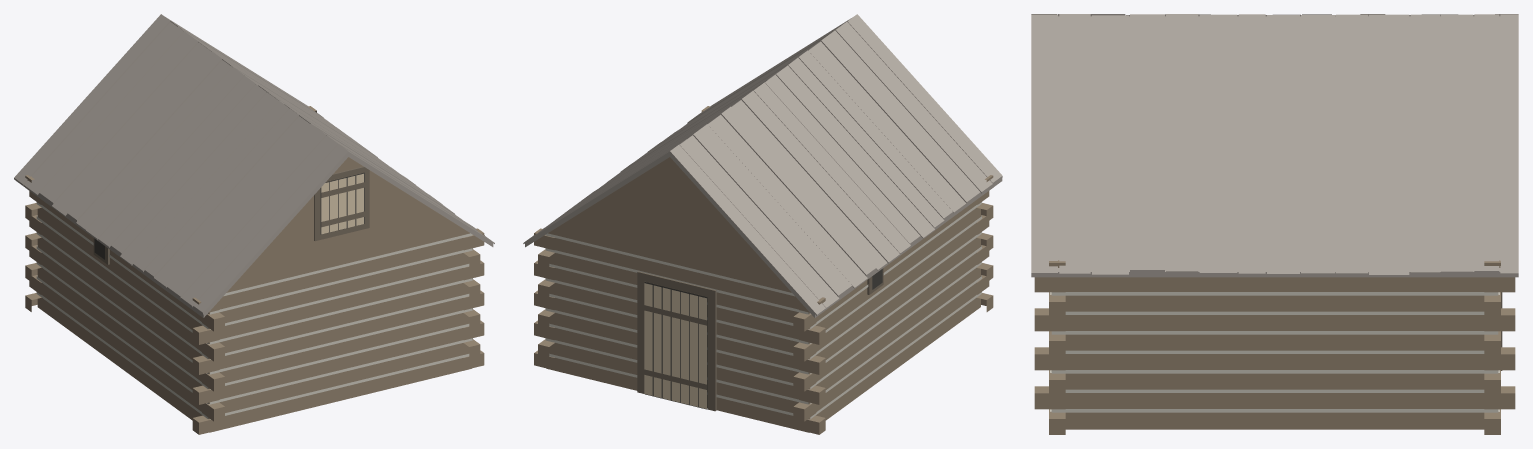
The model's file is recon_1835_blk_randolph_dearborn_a1_07__inferred_1835.glb.
The picture shows the model from 3 angles, left to right: view 1: azimuth 30°, elevation 25°; view 2: azimuth 150°, elevation 25°; view 3: azimuth 270°, elevation 25°; orthographic projection. The views are drawn at different scales.
Parts seen in each view (by area): view 1: recon_1835_blk_randolph_dearborn_a1_07__inferred_1835; view 2: recon_1835_blk_randolph_dearborn_a1_07__inferred_1835; view 3: recon_1835_blk_randolph_dearborn_a1_07__inferred_1835.
Part boxes in pixels (x1,y1,x2,y2): recon_1835_blk_randolph_dearborn_a1_07__inferred_1835: [14, 14, 494, 434]; recon_1835_blk_randolph_dearborn_a1_07__inferred_1835: [523, 14, 1002, 434]; recon_1835_blk_randolph_dearborn_a1_07__inferred_1835: [1031, 14, 1518, 434].
Size of the model in its own units: 6.3 by 5.22 by 6.94.
